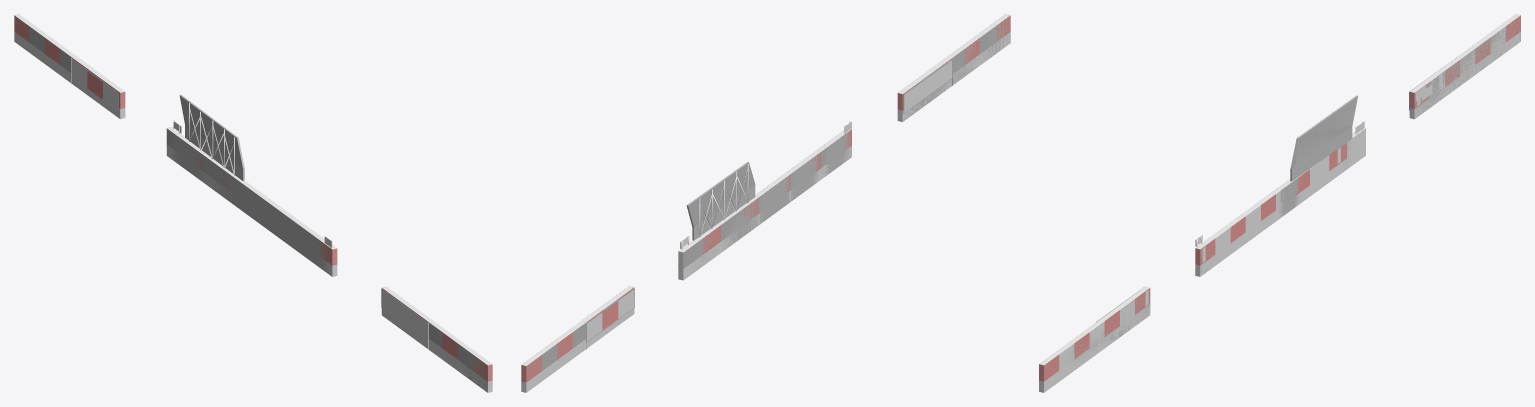
File: garage_racetrack.dae
The picture shows the model from 3 angles, left to right: view 1: azimuth 30°, elevation 25°; view 2: azimuth 150°, elevation 25°; view 3: azimuth 330°, elevation 25°; orthographic projection.
Parts seen in each view (by area): view 1: garage_racetrack_a500, Colmesh-1, garage_racetrack_a200; view 2: garage_racetrack_a500, Colmesh-1, garage_racetrack_a200; view 3: garage_racetrack_a500, Colmesh-1, garage_racetrack_a200.
Part boxes in pixels (x1,y1,x2,y2): garage_racetrack_a500: (14, 14, 492, 392); Colmesh-1: (14, 16, 492, 392); garage_racetrack_a200: (14, 17, 492, 392); garage_racetrack_a500: (521, 14, 1010, 392); Colmesh-1: (521, 16, 1010, 387); garage_racetrack_a200: (521, 15, 1010, 391); garage_racetrack_a500: (1039, 14, 1520, 392); Colmesh-1: (1039, 17, 1520, 391); garage_racetrack_a200: (1039, 15, 1520, 392).
Size of the model in its own units: 0.7793 by 83.84 by 6.64.
